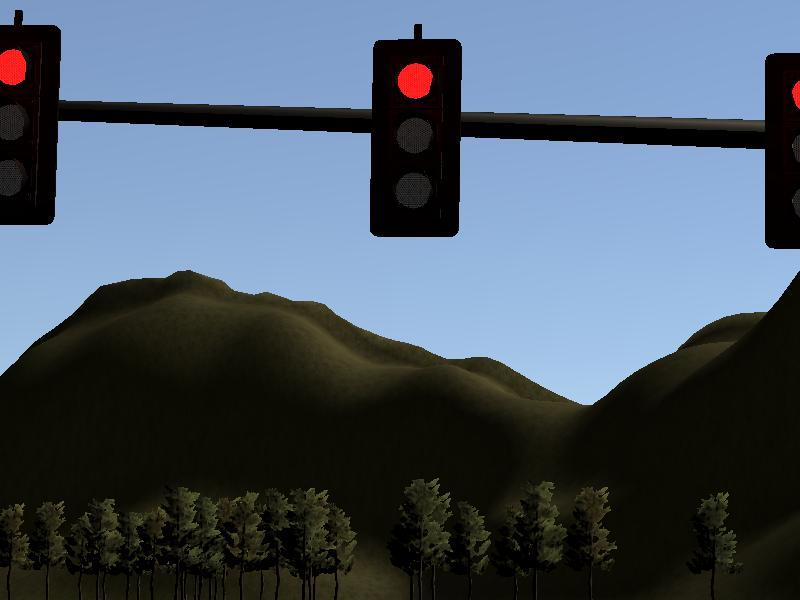Red: (375, 41, 458, 234), (1, 26, 53, 223)
